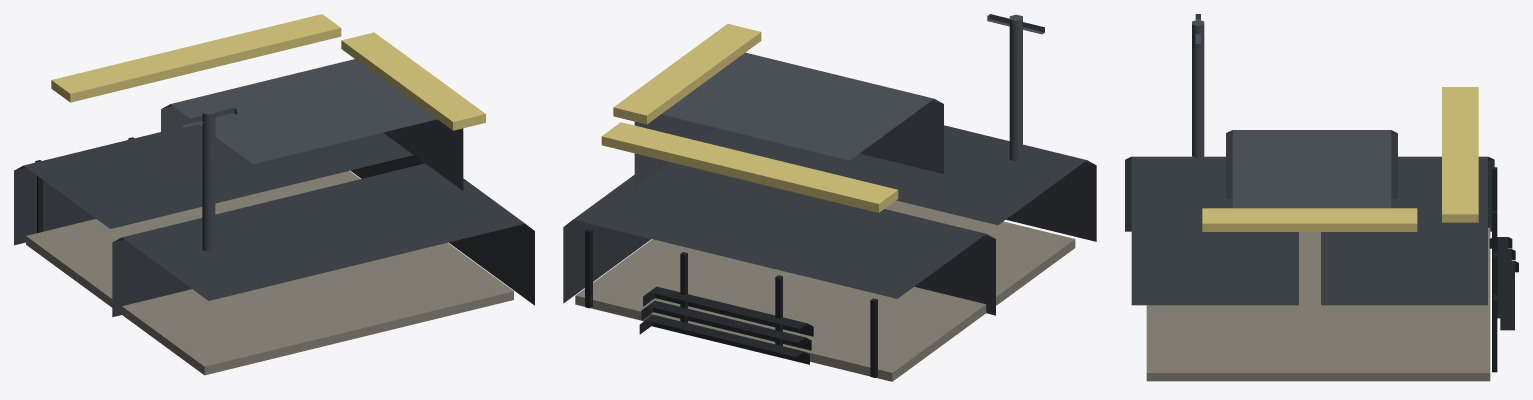
File: forward_post.glb
The picture shows the model from 3 angles, left to right: view 1: azimuth 30°, elevation 25°; view 2: azimuth 150°, elevation 25°; view 3: azimuth 270°, elevation 25°; orthographic projection. The views are drawn at different scales.
Visible parts, largest first — view 1: Body; view 2: Body; view 3: Body.
Part boxes in pixels (x1,y1,x2,y2): Body: (14, 14, 534, 375); Body: (563, 14, 1096, 381); Body: (1125, 14, 1518, 381).
Bounding box in the file's own units: 5.53 × 3.8 × 5.95.
